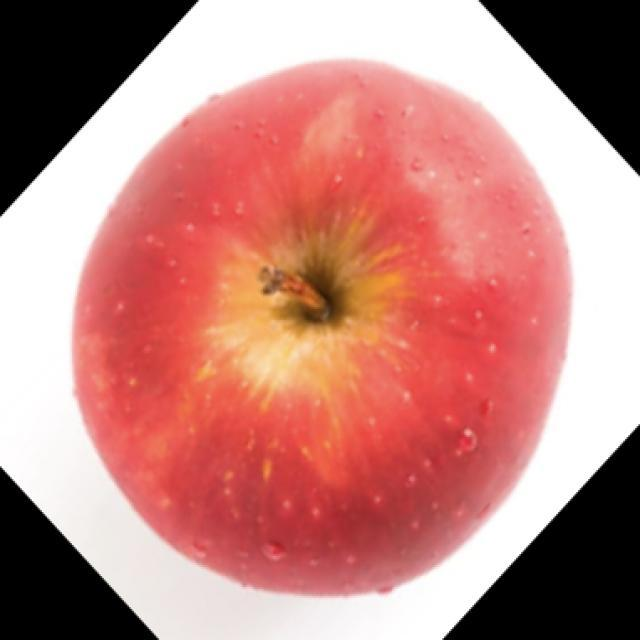Fresh Apple: (90, 56, 573, 596)
